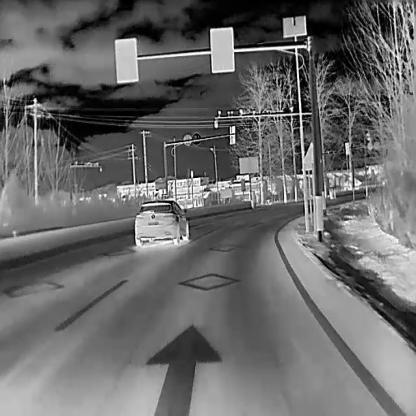car: (134, 199, 188, 246)
